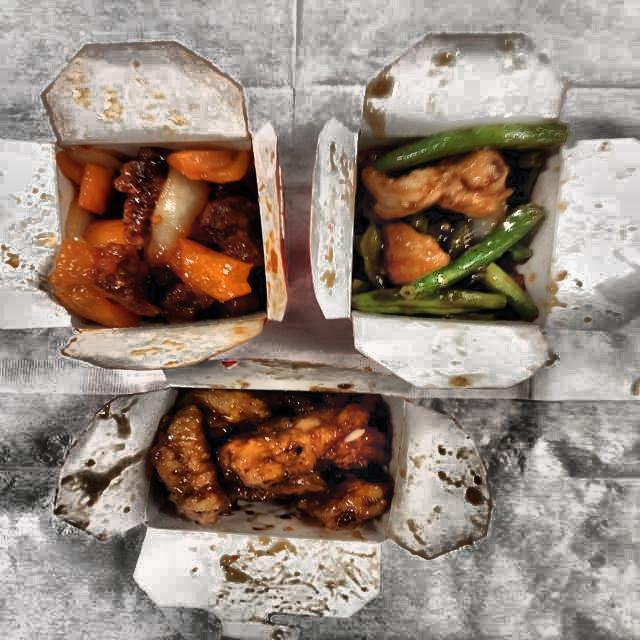Food: (346, 117, 564, 330), (51, 138, 266, 332), (152, 387, 398, 528)
